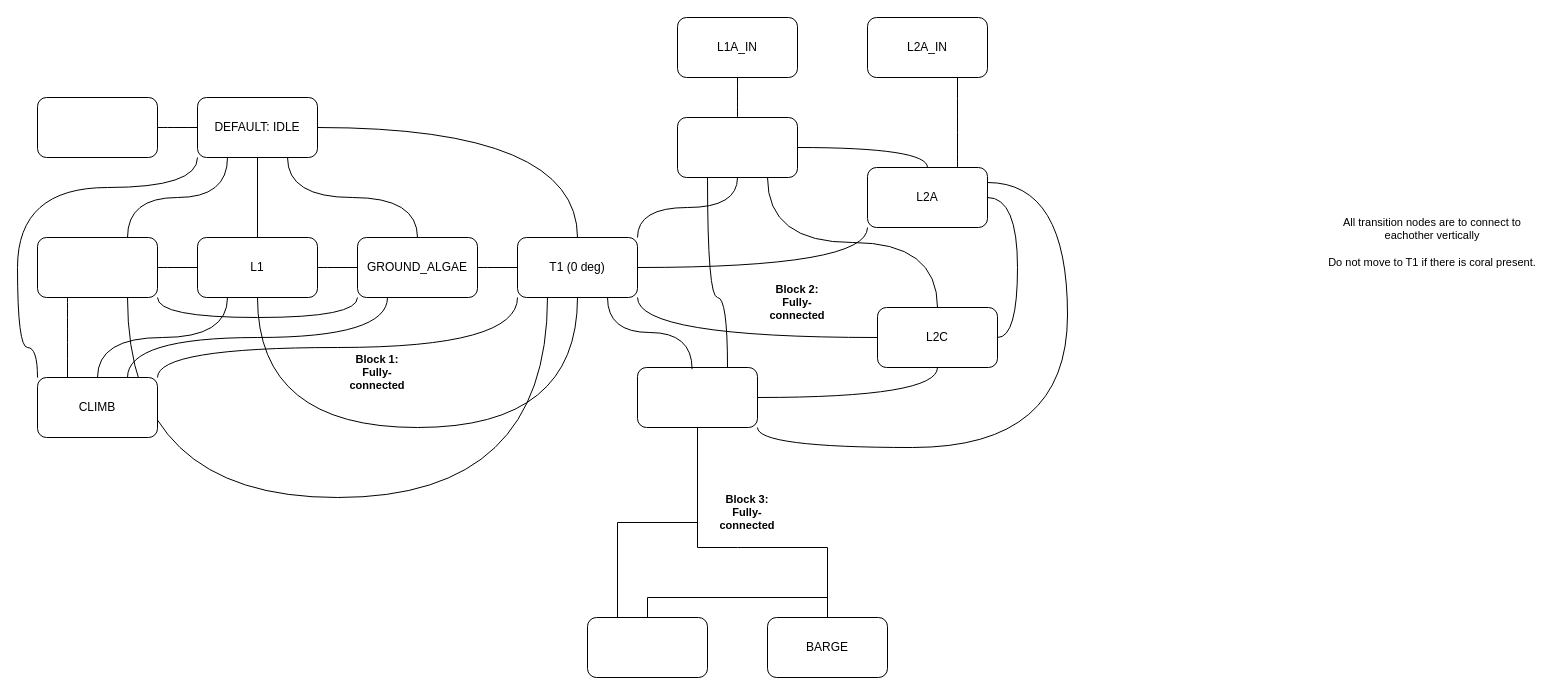
The diagram is 1555 pixels wide and 696 high, and some of its shapes have lost their labels. The shapes that lost their labels are listed below. From the top down, each one's centre as x and y in pixels, then its label:
At point (97, 127): "ZERO".
At point (737, 147): "L1A".
At point (97, 267): "PROCESSOR_ALGAE".
At point (697, 397): "L3C".
At point (647, 647): "INTAKE".
